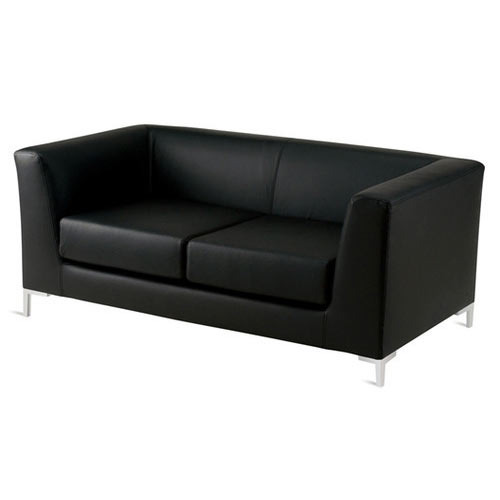chairs: (12, 123, 489, 389)
